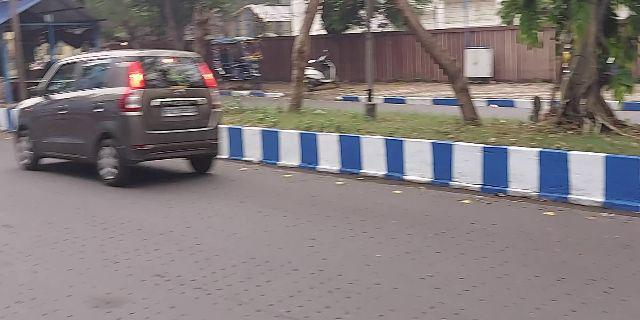Car: (14, 53, 226, 178)
